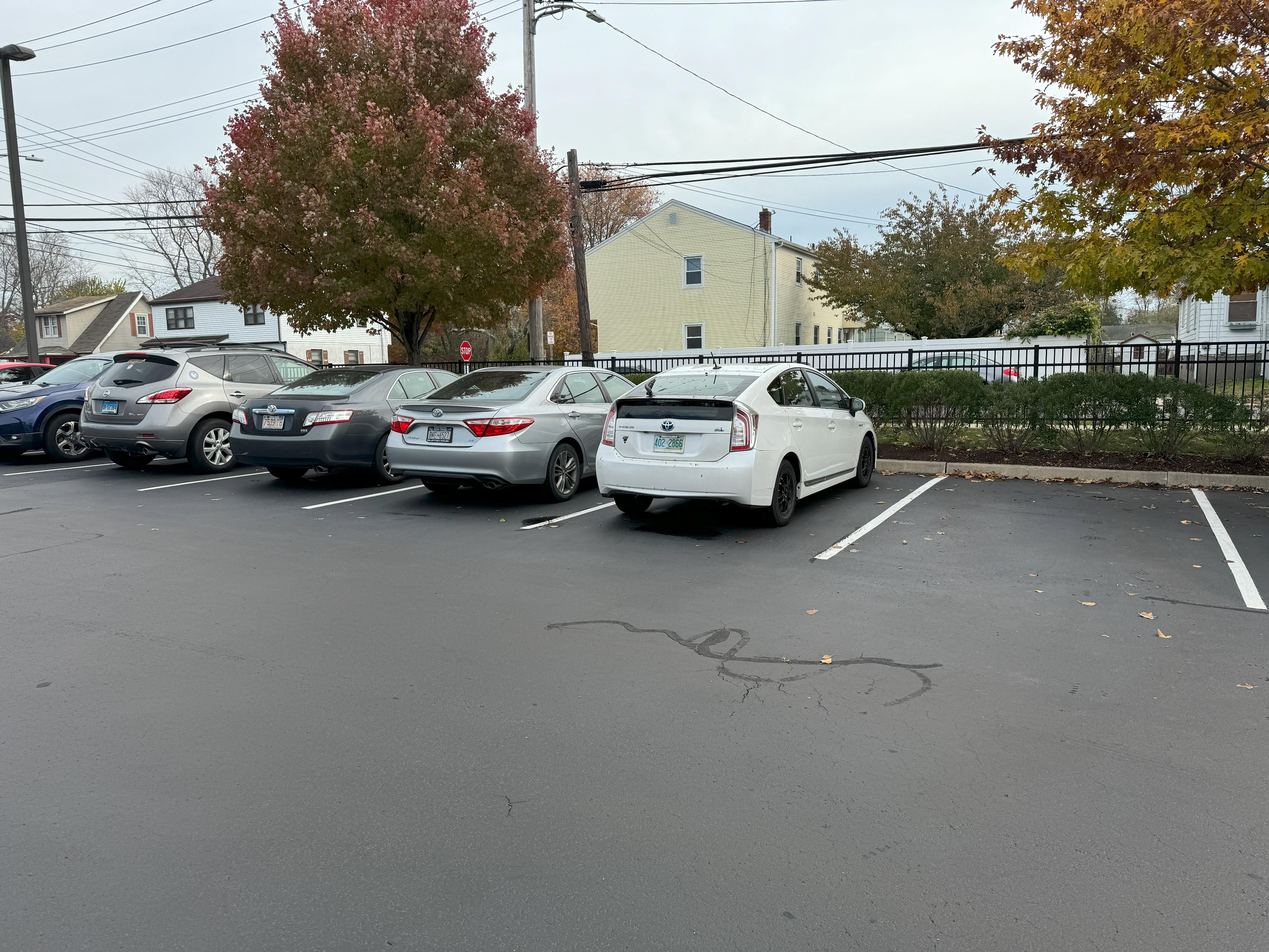empty: (934, 480, 1196, 611)
occupied: (623, 358, 882, 552), (434, 363, 601, 501), (92, 336, 240, 478), (263, 358, 407, 483), (14, 345, 77, 471)
